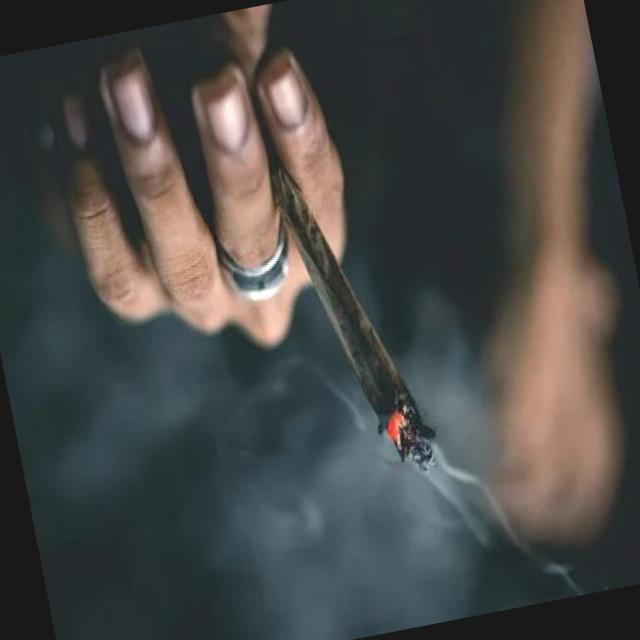smoke: (256, 137, 448, 499)
